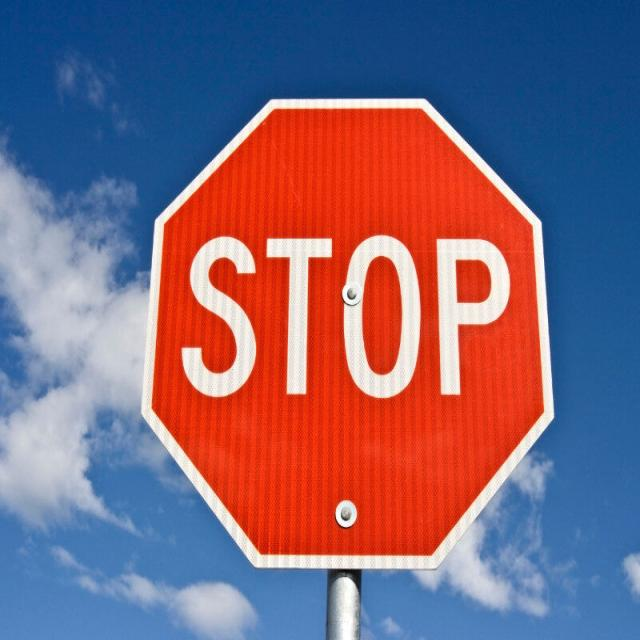STOP: (141, 100, 553, 569)
